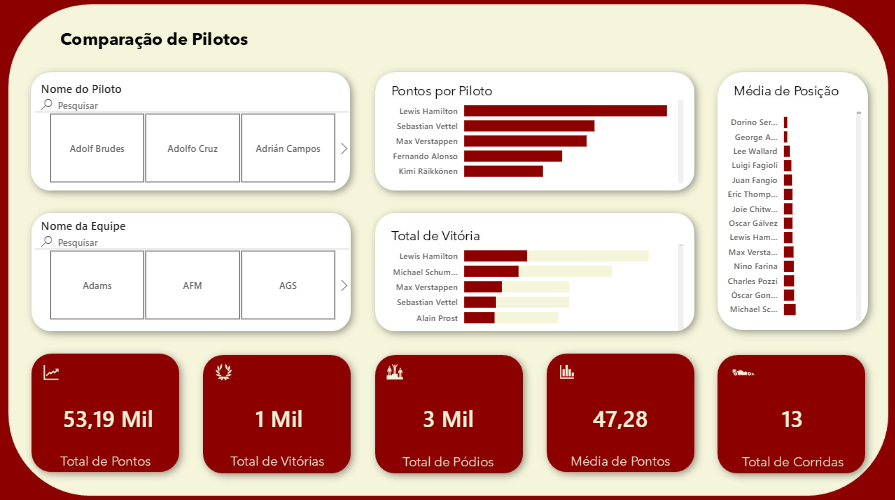

The dashboard page shown, as its layout file describes it:
{"tool":"powerbi","page":{"name":"Comparação de Pilotos","canvas":[1280,720],"ordinal":4},"visuals":[{"type":"slicer","fields":{"Values":["DimDriver.Nome Piloto"]},"box":[45.5,111.7,457.1,155.8],"z":1000},{"type":"slicer","fields":{"Values":["DimConstructor.name"]},"box":[45.5,307.8,457.1,155.8],"z":2000},{"type":"cardVisual","fields":{"Data":["FactResults.Total Pontos"]},"box":[59.7,539,189.6,113],"z":3000},{"type":"cardVisual","fields":{"Data":["FactResults.Total Vitórias"]},"box":[333.8,539,129.9,113],"z":4000},{"type":"cardVisual","fields":{"Data":["FactResults.Total Pódios"]},"box":[572.7,539,135.1,113],"z":5000},{"type":"cardVisual","fields":{"Data":["FactResults.Média Pontos por Corrida"]},"box":[816.9,539,139,113],"z":6000},{"type":"cardVisual","fields":{"Data":["FactResults.Média Posição"]},"box":[1077.9,539,107.8,113],"z":7000},{"type":"barChart","fields":{"Category":["DimDriver.Nome Piloto"],"Y":["FactResults.Total Vitórias","FactResults.Total Pódios"]},"box":[540.3,336.4,441.6,141.6],"z":8000},{"type":"barChart","fields":{"Category":["DimDriver.Nome Piloto"],"Y":["FactResults.Média Posição"]},"box":[1023.4,145.5,213,318.2],"z":9000},{"type":"barChart","fields":{"Category":["DimDriver.Nome Piloto"],"Y":["FactResults.Total Pontos"]},"box":[540.3,128.6,441.6,139],"z":10000}]}

Visuals, with their boxes in screenshot pixels (x1, y1, x2, y2), scaled from the page's 1280x720 canvas onto the 895x500 screenshot:
slicer - DimDriver.Nome Piloto: l=32, t=78, r=351, b=186
slicer - DimConstructor.name: l=32, t=214, r=351, b=322
cardVisual - FactResults.Total Pontos: l=42, t=374, r=174, b=453
cardVisual - FactResults.Total Vitórias: l=233, t=374, r=324, b=453
cardVisual - FactResults.Total Pódios: l=400, t=374, r=495, b=453
cardVisual - FactResults.Média Pontos por Corrida: l=571, t=374, r=668, b=453
cardVisual - FactResults.Média Posição: l=754, t=374, r=829, b=453
barChart - DimDriver.Nome Piloto x FactResults.Total Vitórias: l=378, t=234, r=687, b=332
barChart - DimDriver.Nome Piloto x FactResults.Média Posição: l=716, t=101, r=865, b=322
barChart - DimDriver.Nome Piloto x FactResults.Total Pontos: l=378, t=89, r=687, b=186
